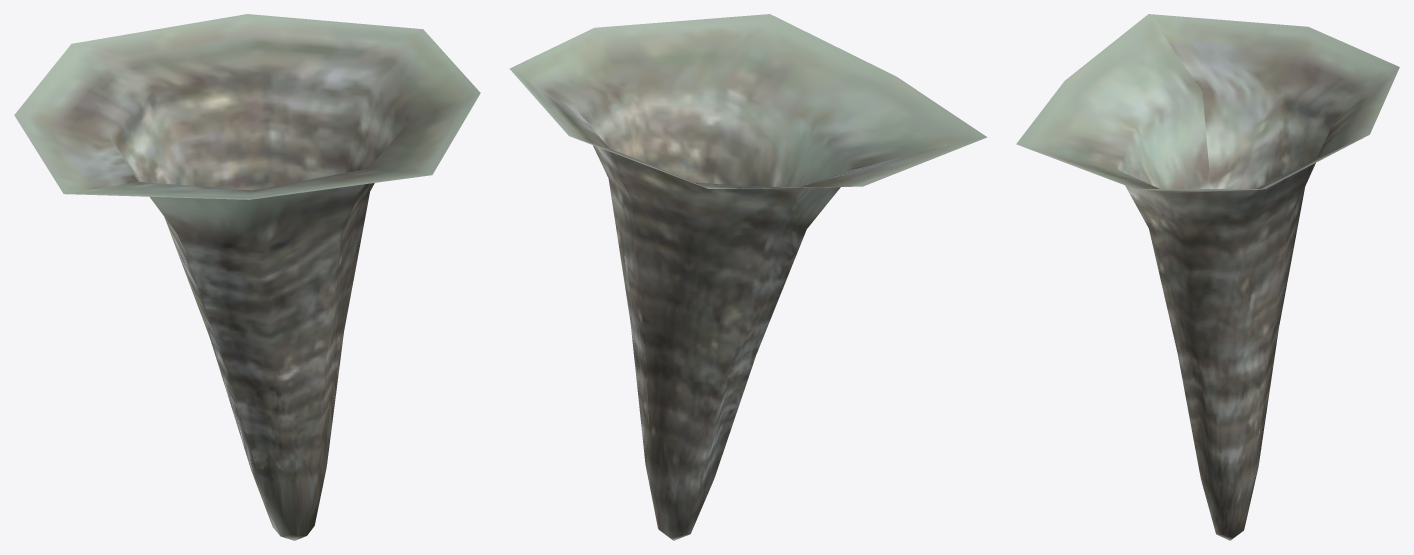
File: TROLLHOLE02_PS-SECRETSTALAG17.fbx
3 renders of one model, left to right at view 1: azimuth 30°, elevation 25°; view 2: azimuth 150°, elevation 25°; view 3: azimuth 270°, elevation 25°, orthographic. The views are drawn at different scales.
Visible parts, largest first — view 1: TROLLHOLE02_PS-SECRETSTALAG17; view 2: TROLLHOLE02_PS-SECRETSTALAG17; view 3: TROLLHOLE02_PS-SECRETSTALAG17.
Boxes of the visible parts, x1,y1,x2,y2 form: TROLLHOLE02_PS-SECRETSTALAG17: (14,14,480,540); TROLLHOLE02_PS-SECRETSTALAG17: (509,14,987,540); TROLLHOLE02_PS-SECRETSTALAG17: (1016,14,1399,540).
Size of the model in its own units: 31640 by 33005 by 27375.
Materials: 1 (1 with a texture image).
